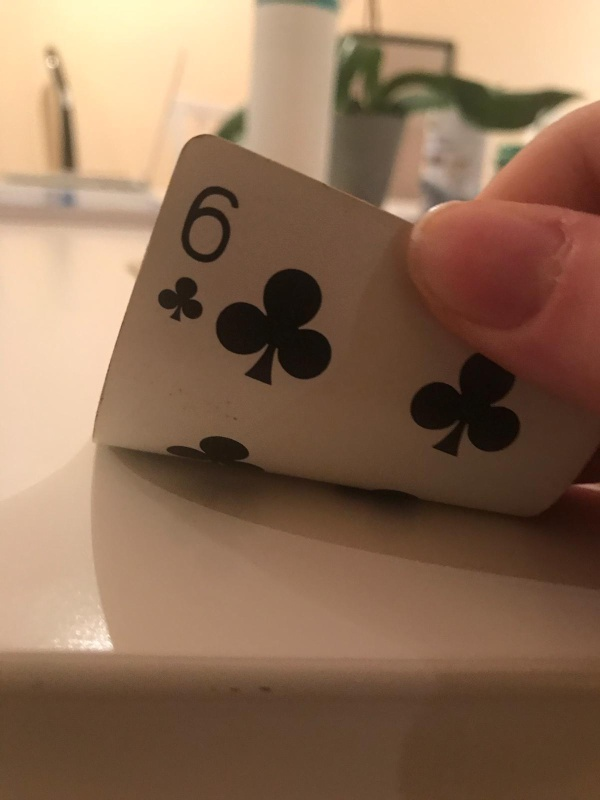C6: (160, 179, 242, 324)
